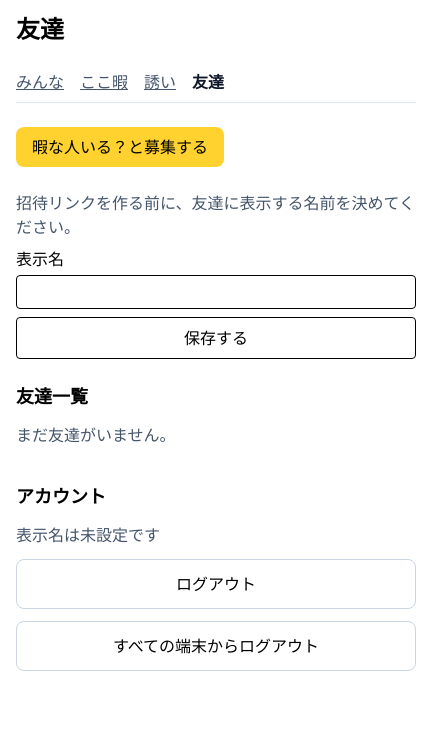
Test: ログアウトの失敗 › ログアウト：通信できなければログイン中のまま、静かに再試行を促す
expect the heading "アカウント" is shown: met, box [16, 486, 106, 507]
Click the button "ログアウト": point(216, 584) [16, 559, 416, 609]
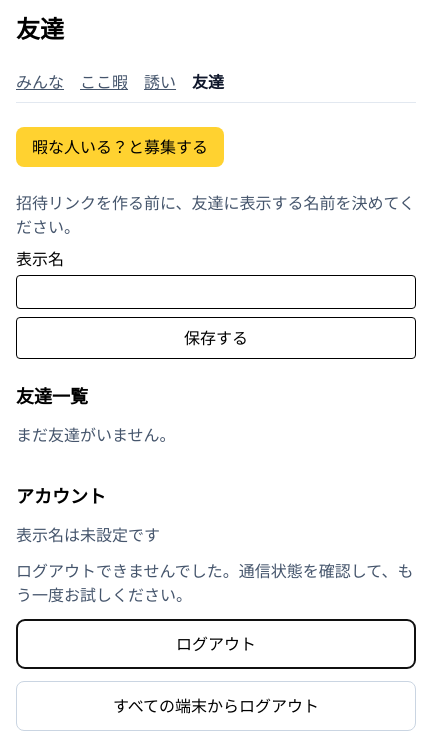
expect the heading "アカウント" is shown: met, box [16, 486, 106, 507]
expect the text "ログアウトできませんでした。通信状態を確認して、もう一度お試しください。" is shown: met, box [16, 559, 416, 607]
